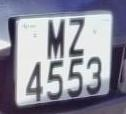3: (85, 53, 105, 101)
4: (22, 58, 48, 108)
5: (44, 58, 68, 105), (64, 56, 86, 100)
M: (44, 14, 67, 66)
Z: (66, 14, 89, 63)
